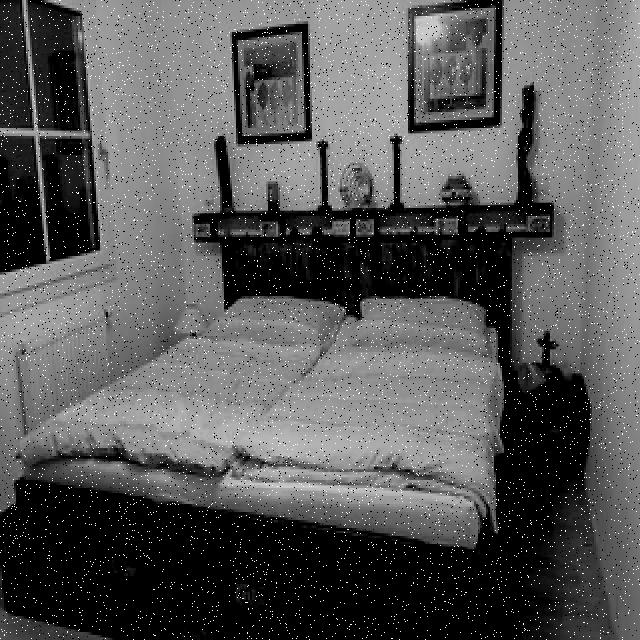bed: (14, 276, 508, 490)
